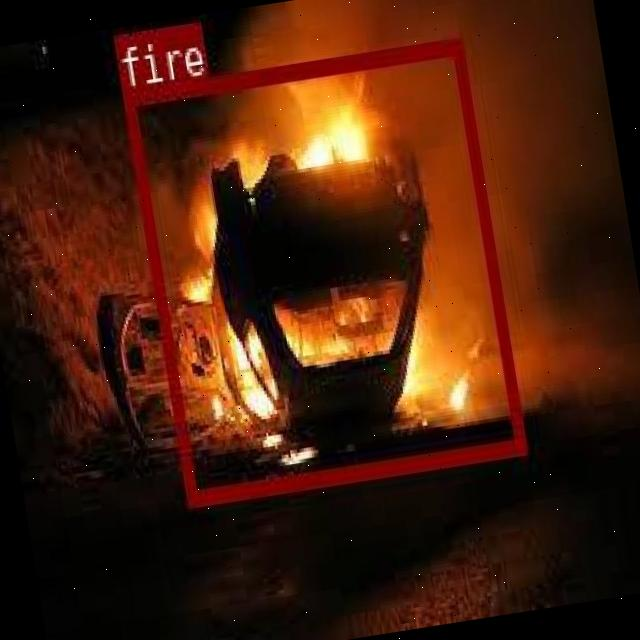fire: (121, 37, 525, 504)
